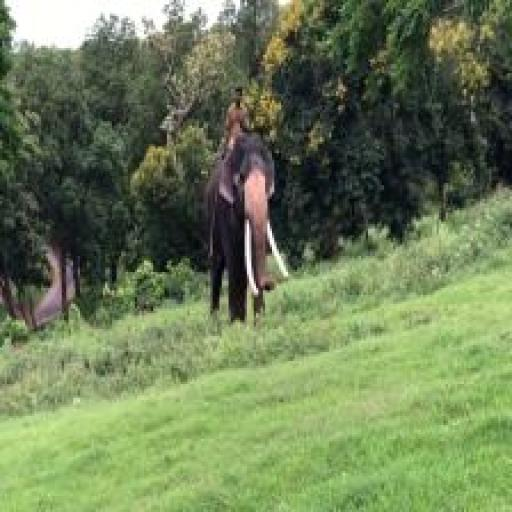Elephant: (196, 123, 292, 334)
